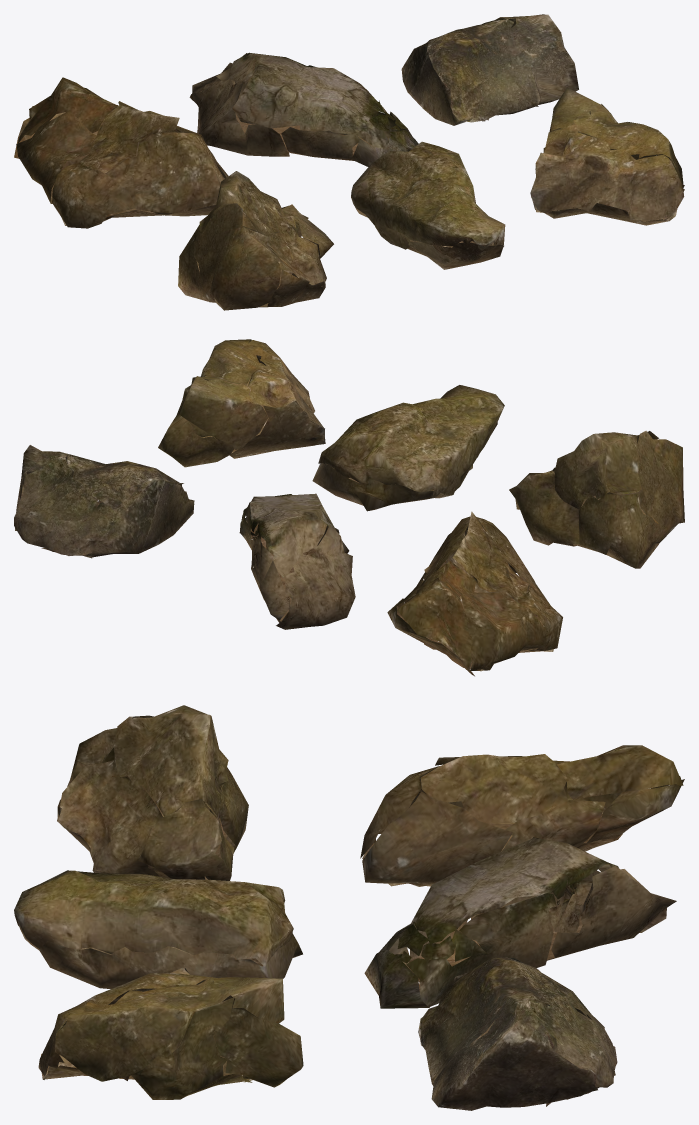
File: rock_moss_set_01.fbx
The picture shows the model from 3 angles, top to bottom: view 1: azimuth 30°, elevation 25°; view 2: azimuth 150°, elevation 25°; view 3: azimuth 270°, elevation 25°; orthographic projection. The views are drawn at different scales.
Visible parts, largest first — view 1: rock_moss_set_01_rock01, rock_moss_set_01_rock02, rock_moss_set_01_rock06, rock_moss_set_01_rock04, rock_moss_set_01_rock03, rock_moss_set_01_rock05; view 2: rock_moss_set_01_rock04, rock_moss_set_01_rock01, rock_moss_set_01_rock05, rock_moss_set_01_rock03, rock_moss_set_01_rock06, rock_moss_set_01_rock02; view 3: rock_moss_set_01_rock01, rock_moss_set_01_rock02, rock_moss_set_01_rock05, rock_moss_set_01_rock04, rock_moss_set_01_rock06, rock_moss_set_01_rock03.
Boxes of the visible parts, x1,y1,x2,y2 form: rock_moss_set_01_rock01: (14, 77, 228, 228); rock_moss_set_01_rock02: (189, 52, 418, 166); rock_moss_set_01_rock06: (530, 87, 684, 225); rock_moss_set_01_rock04: (178, 171, 333, 310); rock_moss_set_01_rock03: (401, 14, 578, 125); rock_moss_set_01_rock05: (351, 141, 505, 269); rock_moss_set_01_rock04: (509, 430, 684, 568); rock_moss_set_01_rock01: (387, 511, 562, 676); rock_moss_set_01_rock05: (312, 385, 504, 511); rock_moss_set_01_rock03: (14, 445, 194, 558); rock_moss_set_01_rock06: (158, 339, 325, 467); rock_moss_set_01_rock02: (239, 493, 355, 629); rock_moss_set_01_rock01: (360, 745, 684, 886); rock_moss_set_01_rock02: (364, 837, 676, 1008); rock_moss_set_01_rock05: (14, 870, 302, 988); rock_moss_set_01_rock04: (57, 705, 248, 880); rock_moss_set_01_rock06: (38, 967, 303, 1099); rock_moss_set_01_rock03: (418, 957, 617, 1110).
Size of the model in its own units: 799 by 176 by 696.
Materials: 1 (1 with a texture image).
